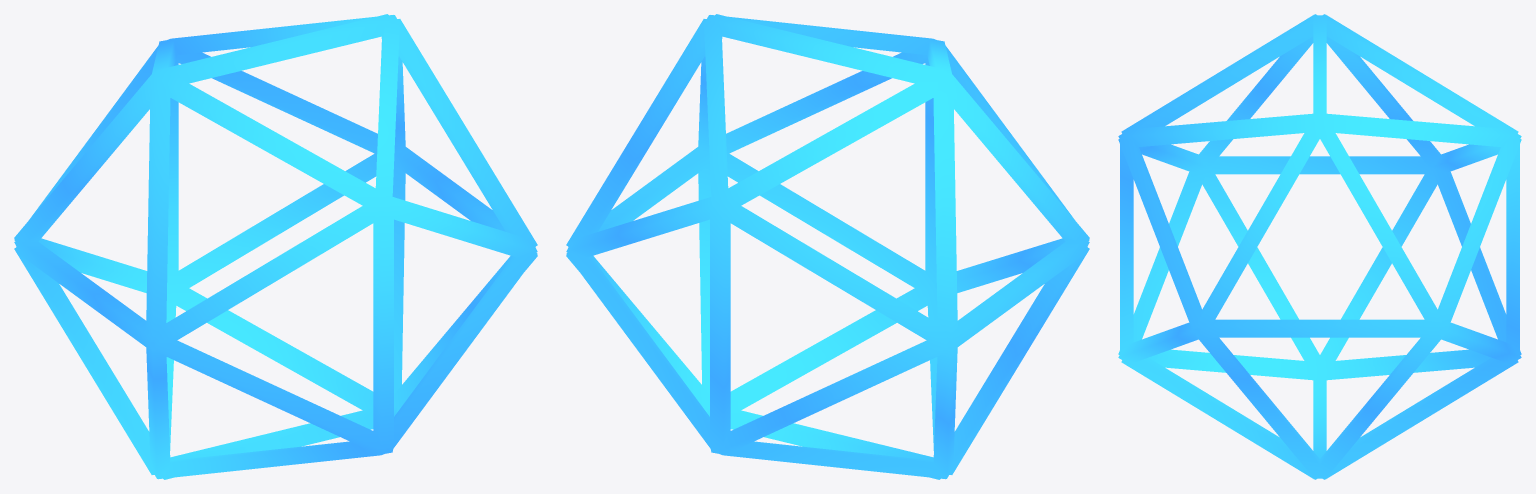
File: d20-wire-blue-mobile.glb
The picture shows the model from 3 angles, left to right: view 1: azimuth 30°, elevation 25°; view 2: azimuth 150°, elevation 25°; view 3: azimuth 270°, elevation 25°; orthographic projection. The views are drawn at different scales.
Size of the model in its own units: 1.76 by 1.77 by 1.78.
